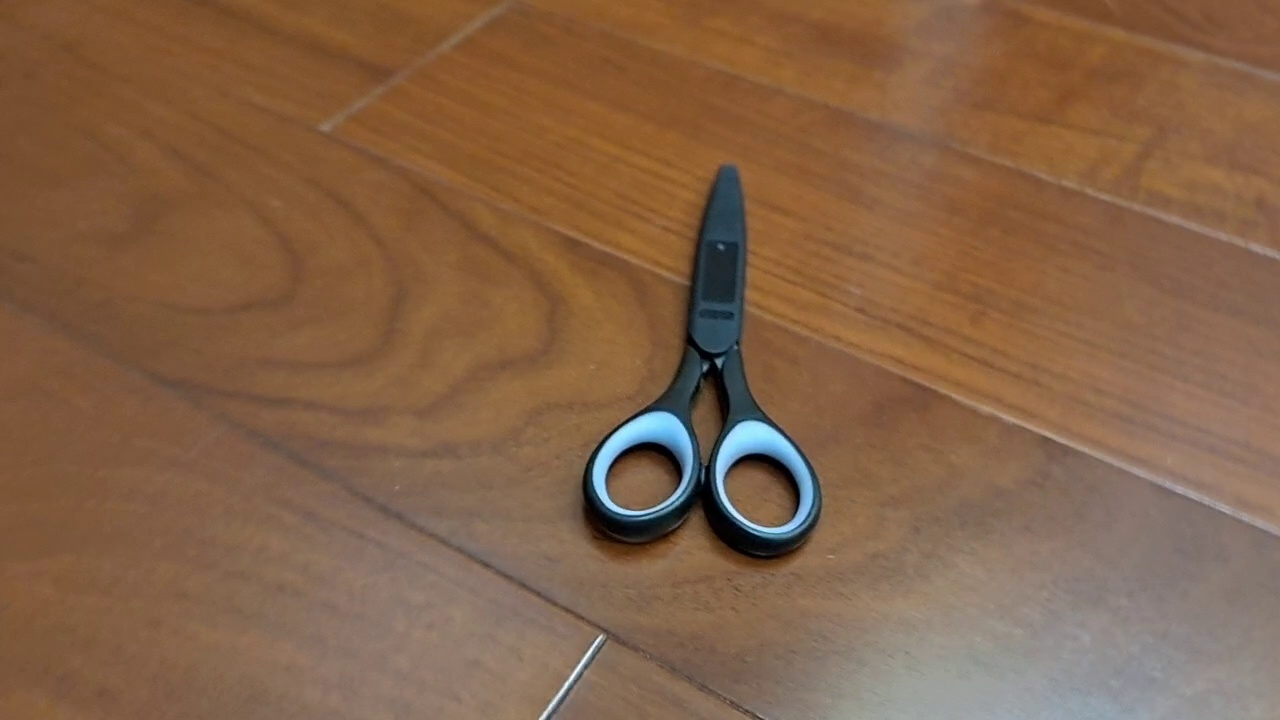scissors: (580, 160, 822, 561)
